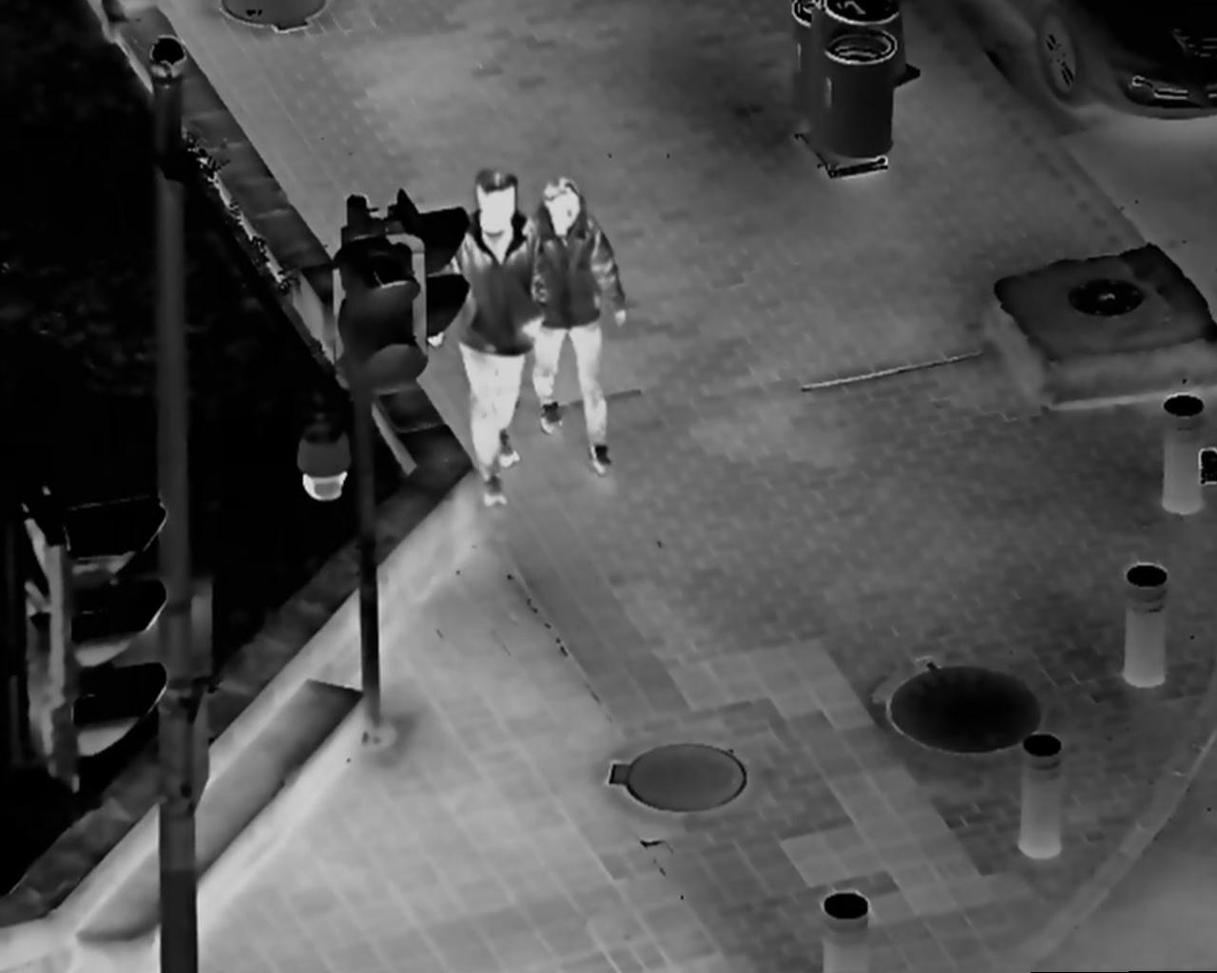person: (426, 165, 539, 510), (521, 175, 638, 481)
